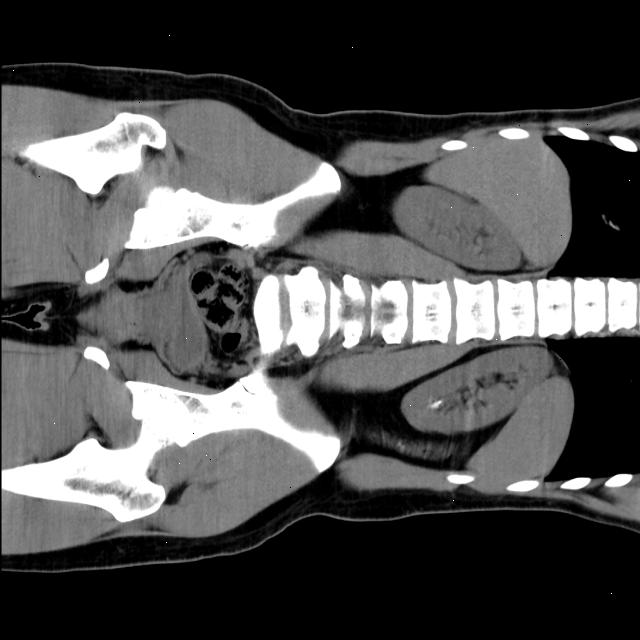kidneystone: (428, 400, 442, 410)
